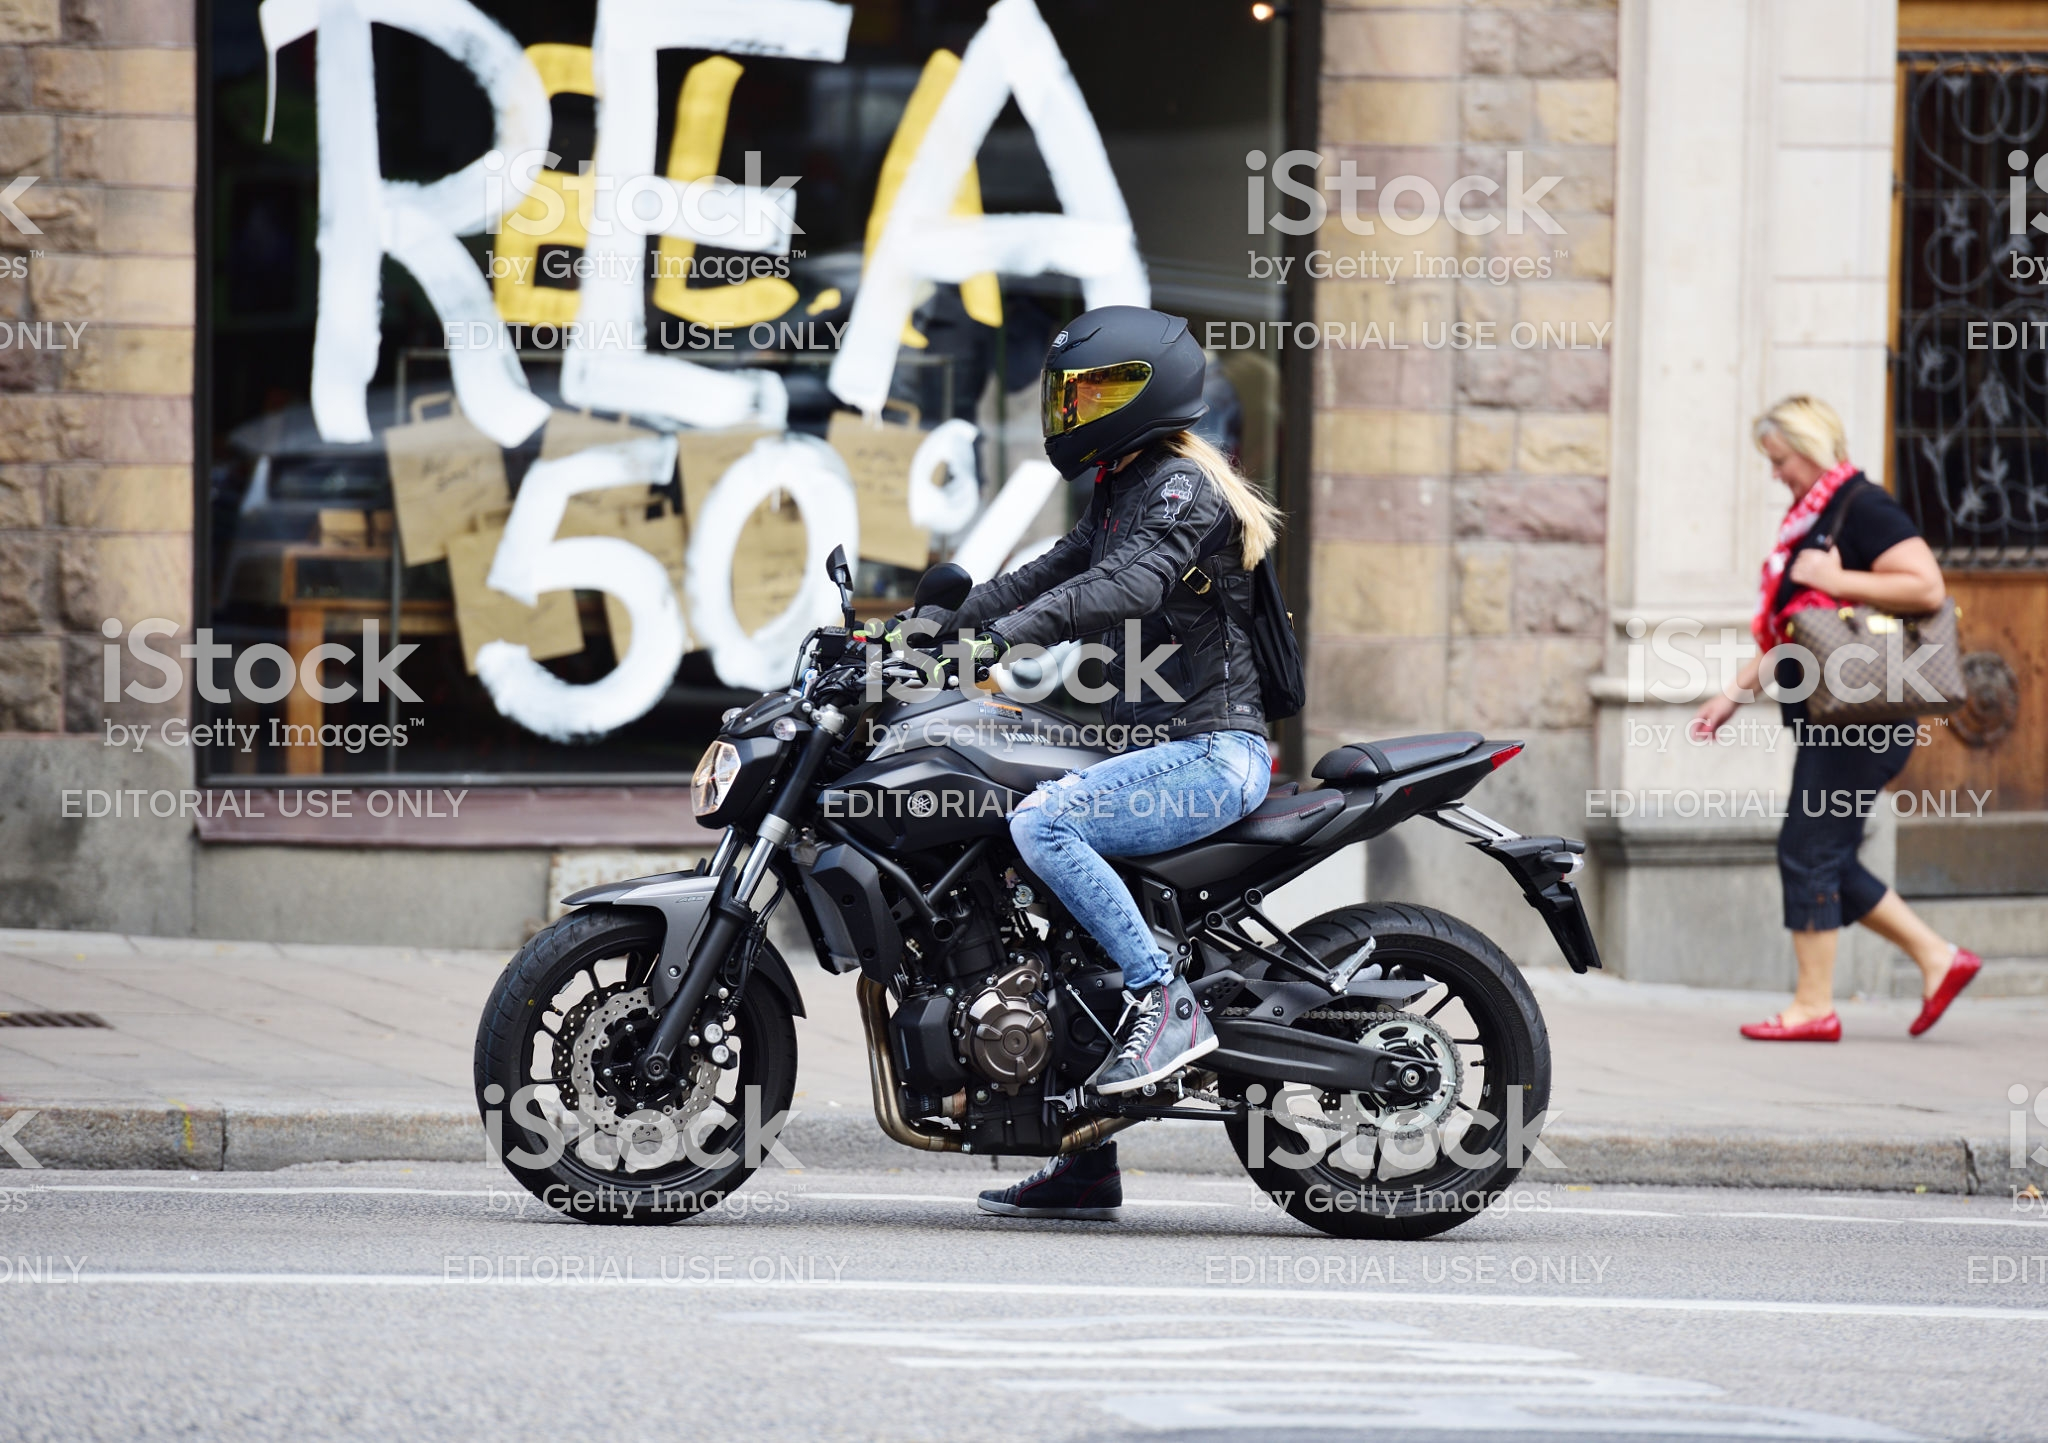helmet: (1012, 315, 1218, 454)
